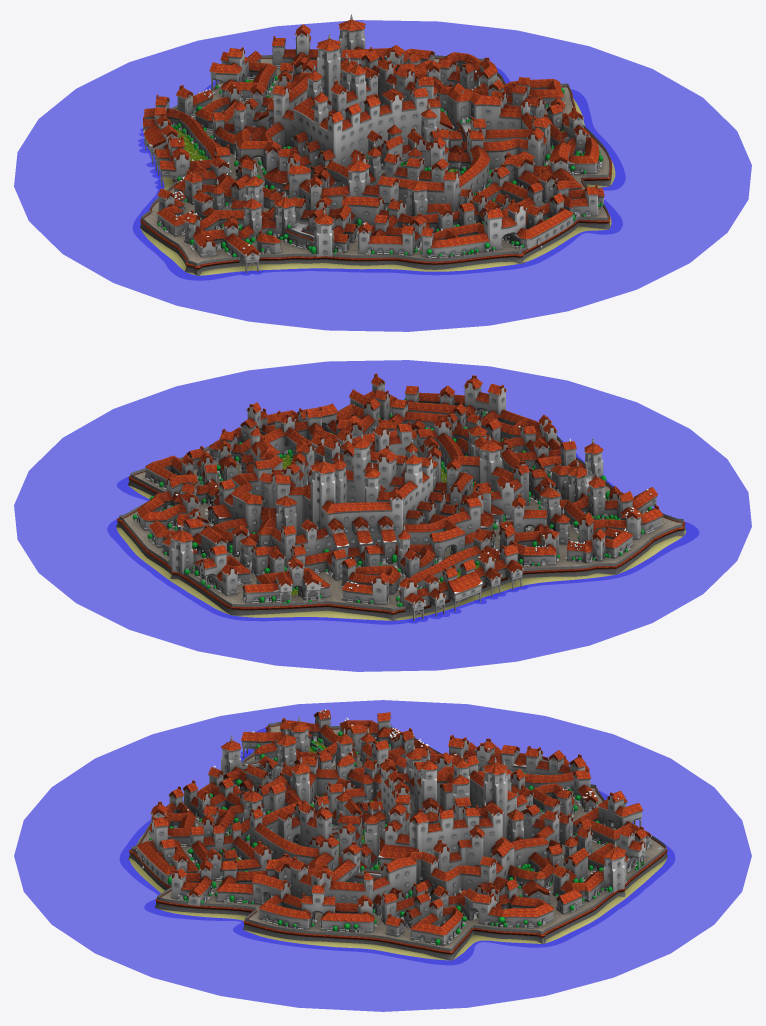
Rendered from scene_baked.gltf.
The picture shows the model from 3 angles, top to bottom: view 1: azimuth 30°, elevation 25°; view 2: azimuth 150°, elevation 25°; view 3: azimuth 270°, elevation 25°; orthographic projection.
Visible parts, largest first — view 1: 11_Water, 05_Roofs, 04_Houses, 06_Windows, 01_Streets, 10_Sand, 03_Walls, 07_Fencing, 08_Plants, 09_Props; view 2: 11_Water, 05_Roofs, 04_Houses, 06_Windows, 01_Streets, 10_Sand, 03_Walls, 07_Fencing, 08_Plants, 09_Props; view 3: 11_Water, 04_Houses, 05_Roofs, 06_Windows, 01_Streets, 03_Walls, 10_Sand, 07_Fencing, 08_Plants, 09_Props.
Boxes of the visible parts, x1,y1,x2,y2 form: 11_Water: [14, 20, 751, 331]; 05_Roofs: [140, 19, 611, 269]; 04_Houses: [143, 25, 604, 272]; 06_Windows: [144, 34, 599, 259]; 01_Streets: [143, 58, 609, 263]; 10_Sand: [140, 98, 615, 275]; 03_Walls: [140, 165, 611, 275]; 07_Fencing: [141, 55, 610, 265]; 08_Plants: [157, 60, 602, 257]; 09_Props: [158, 14, 602, 258]; 11_Water: [14, 360, 751, 671]; 05_Roofs: [116, 373, 685, 614]; 04_Houses: [137, 382, 662, 620]; 06_Windows: [138, 384, 655, 607]; 01_Streets: [123, 411, 681, 608]; 10_Sand: [116, 485, 686, 620]; 03_Walls: [116, 480, 685, 620]; 07_Fencing: [119, 404, 683, 611]; 08_Plants: [133, 398, 652, 606]; 09_Props: [133, 404, 654, 606]; 11_Water: [14, 700, 751, 1011]; 04_Houses: [137, 714, 652, 945]; 05_Roofs: [129, 710, 667, 954]; 06_Windows: [141, 716, 649, 941]; 01_Streets: [135, 725, 664, 948]; 03_Walls: [128, 730, 667, 960]; 10_Sand: [128, 750, 667, 960]; 07_Fencing: [131, 722, 666, 951]; 08_Plants: [149, 731, 644, 944]; 09_Props: [136, 716, 662, 946].
Bounding box in the file's own units: 6.24 × 0.9361 × 6.24.
12 materials, 8 textured.
